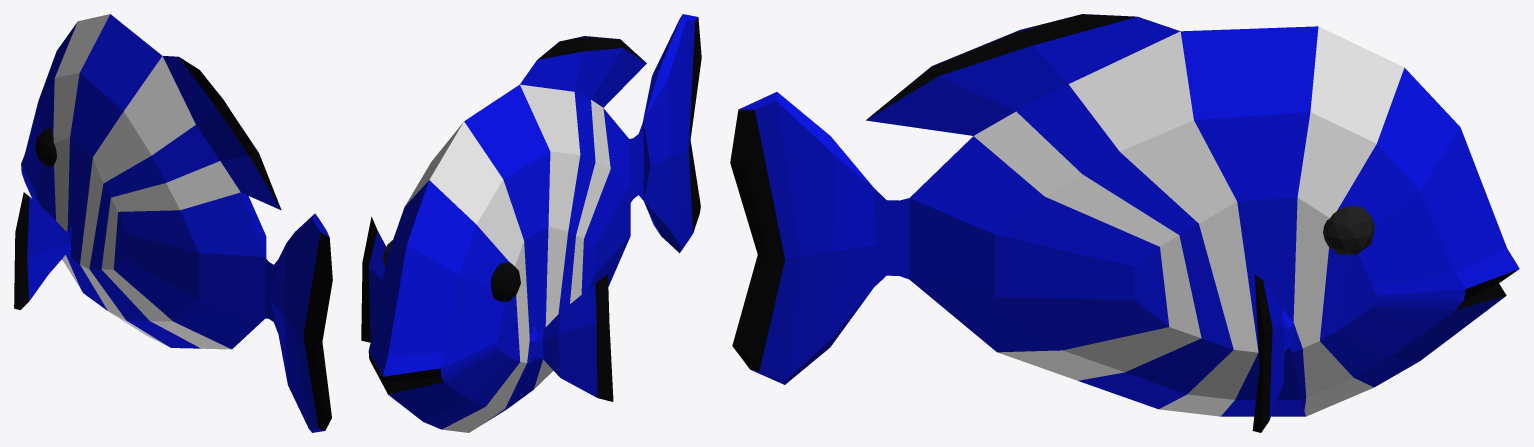
Rendered from fish3.fbx.
3 renders of one model, left to right at view 1: azimuth 30°, elevation 25°; view 2: azimuth 150°, elevation 25°; view 3: azimuth 270°, elevation 25°, orthographic. The views are drawn at different scales.
Visible parts, largest first — view 1: Plane, Icosphere.001; view 2: Plane, Icosphere.001; view 3: Plane, Icosphere.
Part boxes in pixels (left/top/right/bottom): Plane: left=14, top=14, right=332, bottom=432; Icosphere.001: left=35, top=128, right=56, bottom=166; Plane: left=361, top=14, right=701, bottom=432; Icosphere.001: left=491, top=262, right=520, bottom=301; Plane: left=730, top=14, right=1519, bottom=432; Icosphere: left=1323, top=205, right=1374, bottom=254.
Size of the model in its own units: 160 by 197 by 350.
